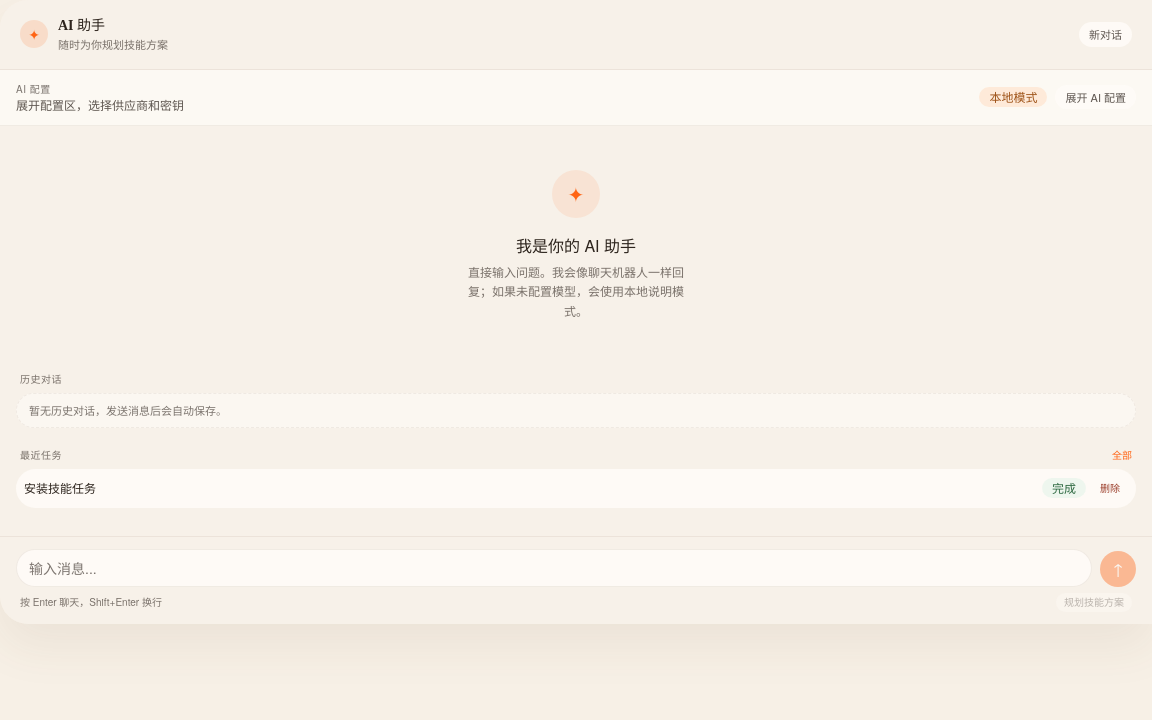
Test: AssistantPanel › deletes task history items from the recent tasks list
Check: the text "安装技能任务" is shown, box [24,479,96,496]
Click the button with aria-label "删除任务：安装技能任务". click: (1110, 488)
box: [1092,476,1128,500]
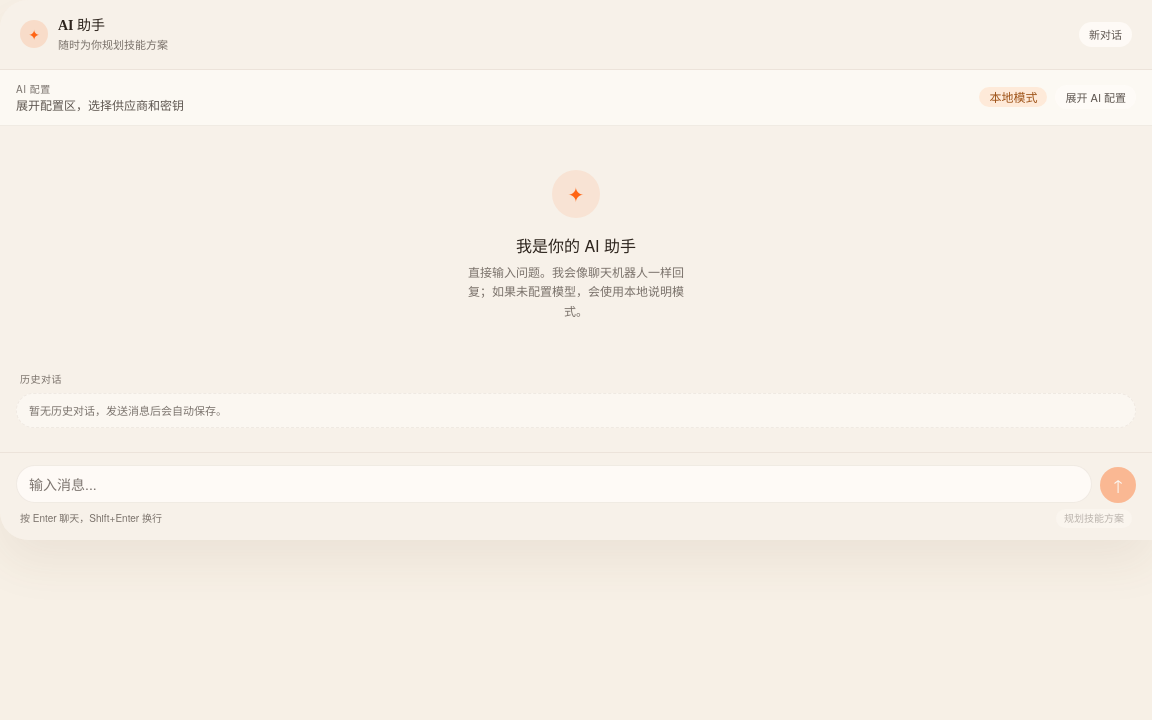
Check: the text "安装技能任务" is gone
